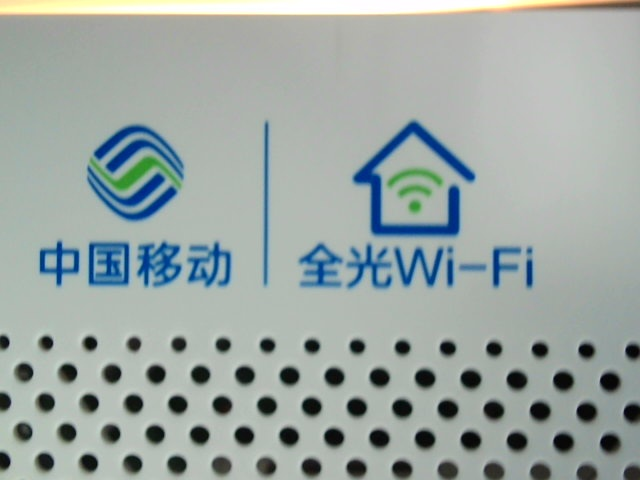BJ_QuanGuangMobile: (32, 115, 542, 305)
